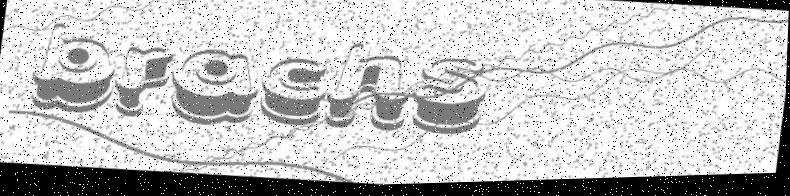a: (166, 45, 267, 135)
b: (28, 18, 123, 120)
c: (258, 56, 328, 129)
r: (111, 41, 176, 122)
s: (409, 57, 490, 140)
w: (321, 42, 415, 139)
